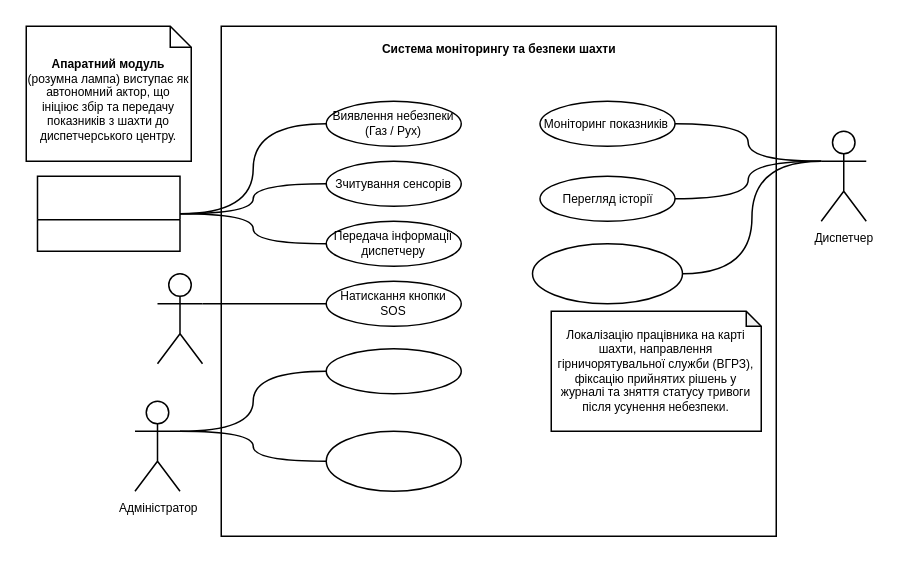
The diagram is 899 pixels wide and 563 high, and some of its shapes have lost their labels. Here are the shapes that lost their labels. From the top down, the centre of each, then its label:
(x=108, y=213): ESP32
(x=606, y=273): Реагування на аварійний інцидент
(x=179, y=318): Шахтар
(x=393, y=370): Побудова карт шахти
(x=393, y=460): Облік обладнання
